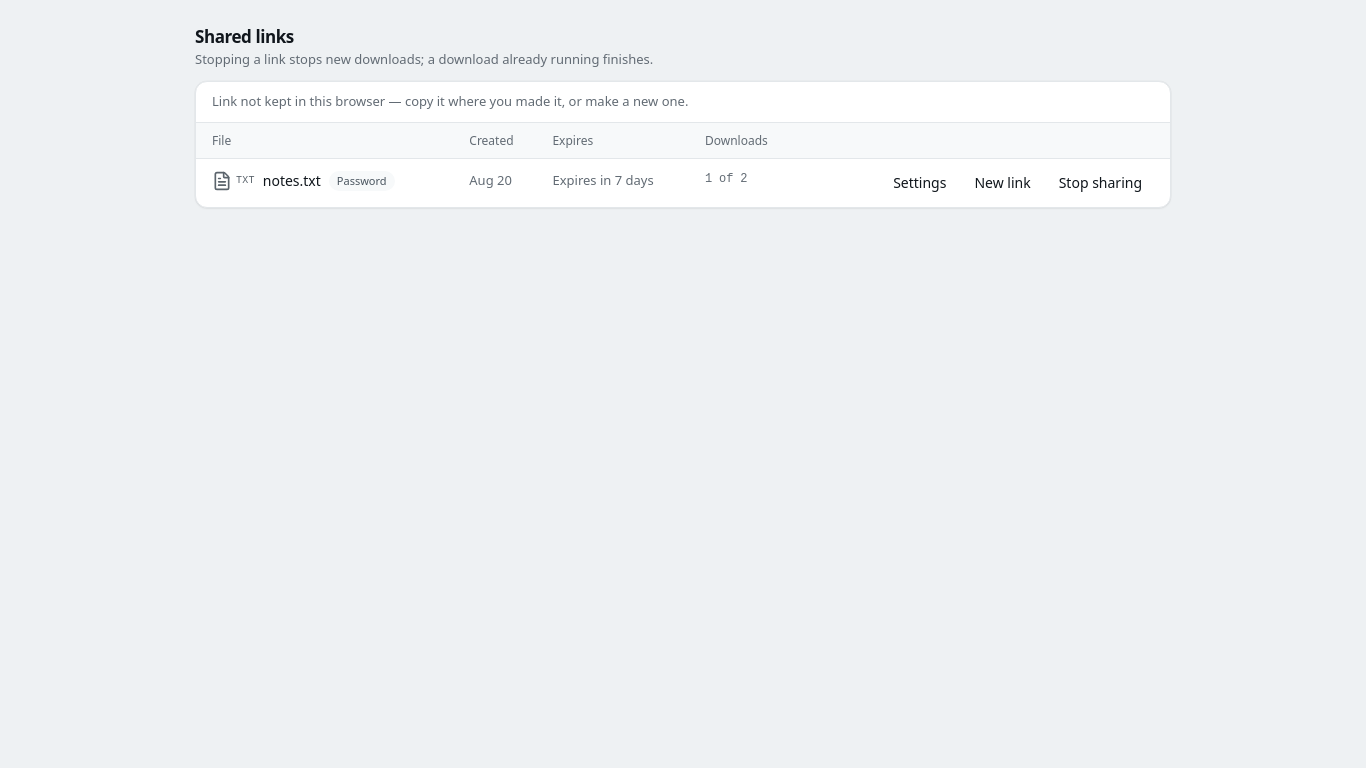
Test: the actions › New link asks, then regenerates and shows the new URL on the row
The width and height of the screenshot is (1366, 768).
expect the link "notes.txt" is shown: met, box x1=263 y1=171 x2=321 y2=191
Click the button "New link". click: (1003, 183)
box: x1=962 y1=167 x2=1043 y2=199
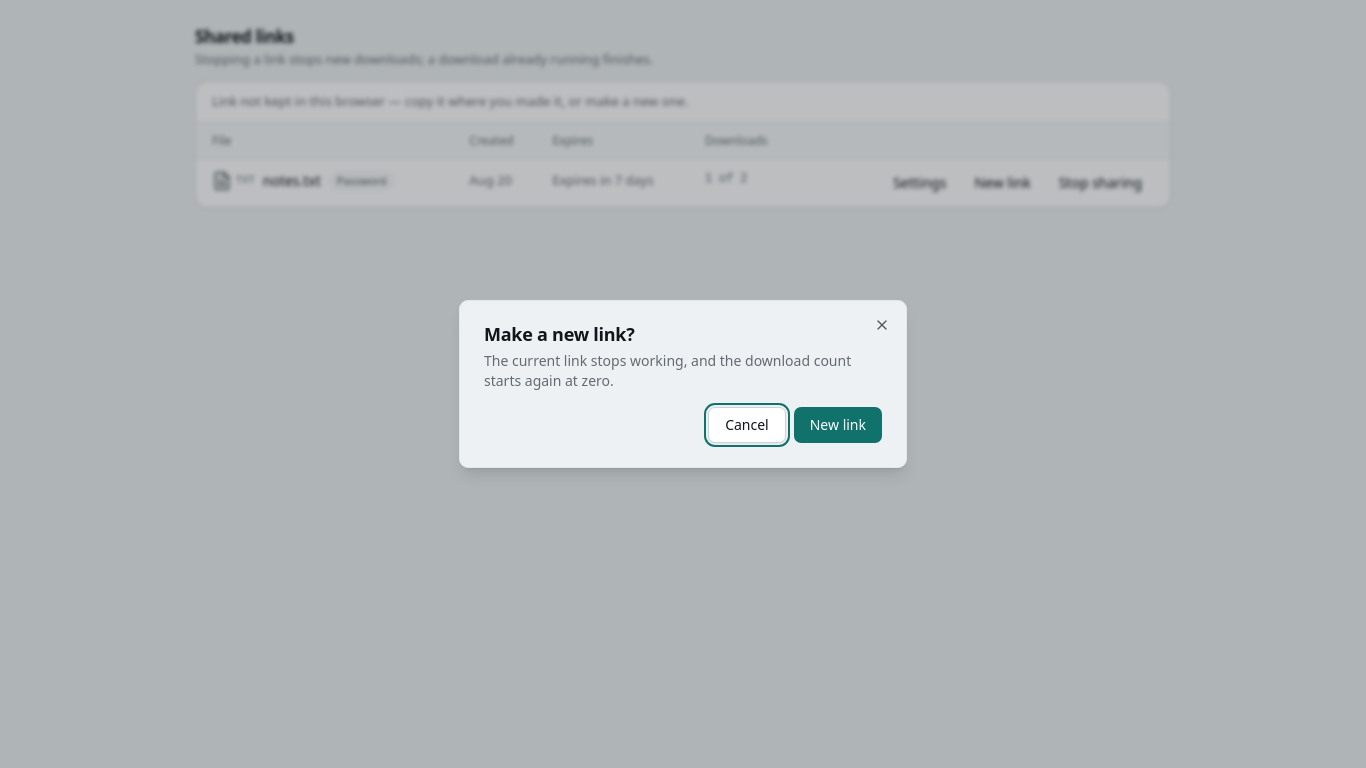
Click the button "New link". click: (838, 425)
box: x1=794 y1=407 x2=882 y2=443
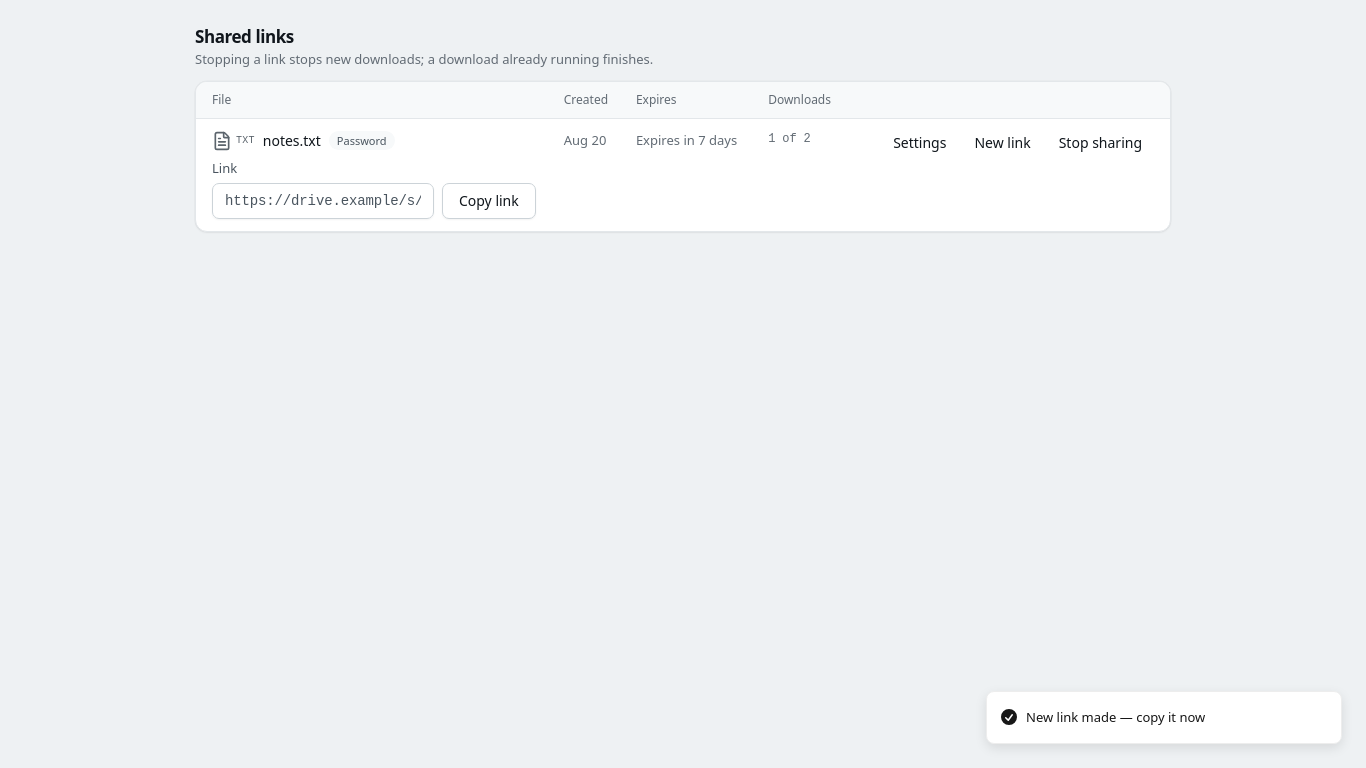
expect the field labelled "Link" holds "https://drive.example/s/fedcba9876543210fedcba9876543210fedcba98765": met, box x1=212 y1=183 x2=434 y2=219
